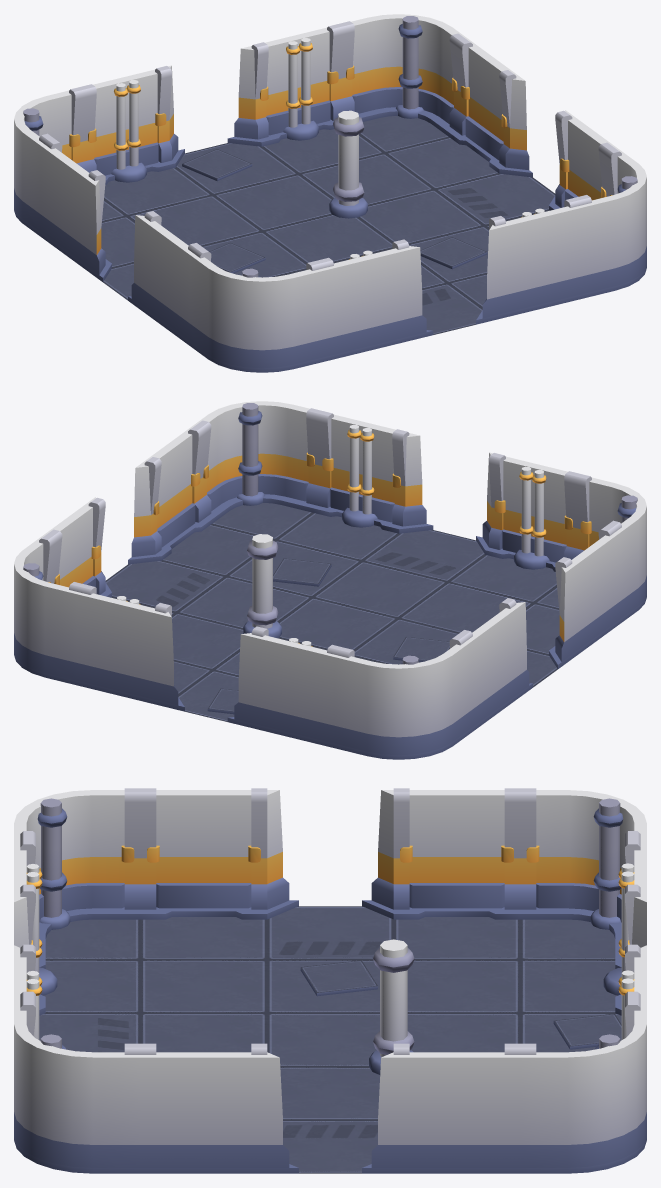
Rendered from kenney-space-room-large.glb.
3 views of the same model, one above another, from view 1: azimuth 30°, elevation 25°; view 2: azimuth 150°, elevation 25°; view 3: azimuth 270°, elevation 25° (orthographic). The views are drawn at different scales.
Parts seen in each view (by area): view 1: room-large; view 2: room-large; view 3: room-large.
Boxes of the visible parts, left/top/right/bottom form: room-large: left=14, top=14, right=646, bottom=372; room-large: left=14, top=401, right=646, bottom=759; room-large: left=14, top=788, right=646, bottom=1173.
Bounding box in the file's own units: 15 × 3.19 × 15.
1 material, 1 textured.
